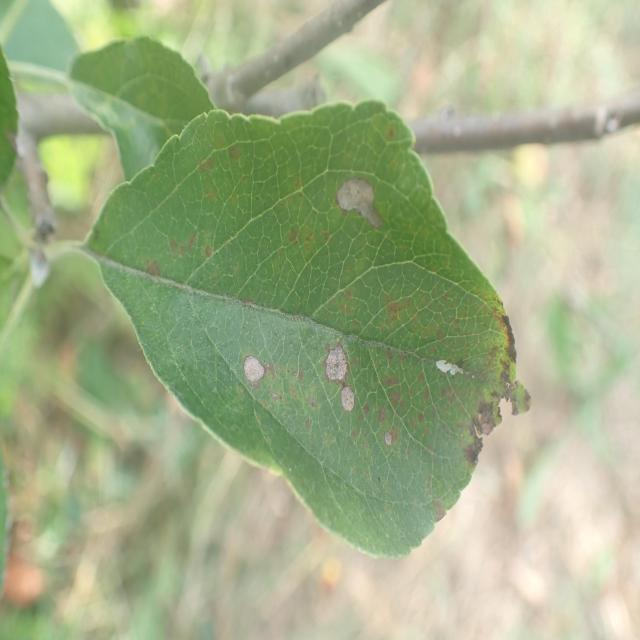frog-eye-leaf-spot: (87, 99, 533, 559)
